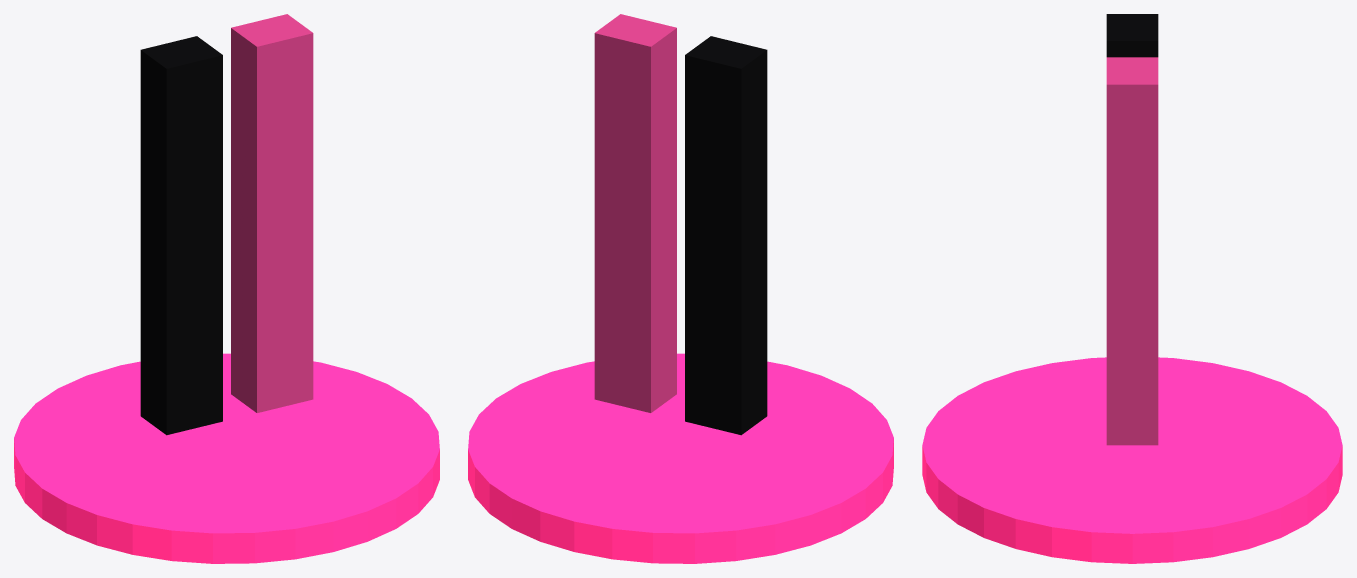
File: beauty_hair_straightener.dae
The picture shows the model from 3 angles, left to right: view 1: azimuth 30°, elevation 25°; view 2: azimuth 150°, elevation 25°; view 3: azimuth 270°, elevation 25°; orthographic projection.
Visible parts, largest first — view 1: 03_15_Popular_Beauty_Hair_Straightener_ROOT_base, 03_15_Popular_Beauty_Hair_Straightener_part_02, 03_15_Popular_Beauty_Hair_Straightener_part_01; view 2: 03_15_Popular_Beauty_Hair_Straightener_ROOT_base, 03_15_Popular_Beauty_Hair_Straightener_part_02, 03_15_Popular_Beauty_Hair_Straightener_part_01; view 3: 03_15_Popular_Beauty_Hair_Straightener_ROOT_base, 03_15_Popular_Beauty_Hair_Straightener_part_02, 03_15_Popular_Beauty_Hair_Straightener_part_01.
Part boxes in pixels (<box>): 03_15_Popular_Beauty_Hair_Straightener_ROOT_base: <box>14,353,439,563</box>; 03_15_Popular_Beauty_Hair_Straightener_part_02: <box>231,14,313,412</box>; 03_15_Popular_Beauty_Hair_Straightener_part_01: <box>140,36,222,435</box>; 03_15_Popular_Beauty_Hair_Straightener_ROOT_base: <box>468,353,893,563</box>; 03_15_Popular_Beauty_Hair_Straightener_part_02: <box>594,14,676,412</box>; 03_15_Popular_Beauty_Hair_Straightener_part_01: <box>685,36,767,435</box>; 03_15_Popular_Beauty_Hair_Straightener_ROOT_base: <box>922,357,1342,563</box>; 03_15_Popular_Beauty_Hair_Straightener_part_02: <box>1106,57,1158,445</box>; 03_15_Popular_Beauty_Hair_Straightener_part_01: <box>1106,14,1158,57</box>.
Bounding box in the file's own units: 0.76 × 0.85 × 0.76.
